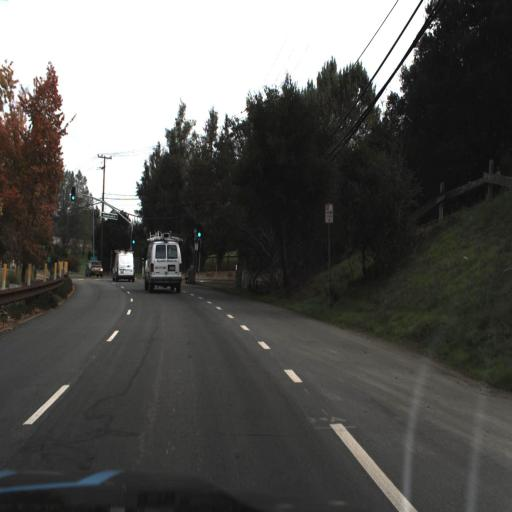car: (142, 234, 181, 292), (113, 245, 136, 283), (86, 253, 103, 280)
trafficLight-Green: (67, 178, 81, 207), (194, 227, 204, 247), (194, 224, 205, 241), (127, 233, 137, 251)
